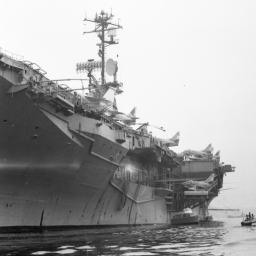Portanaves: (1, 8, 232, 225)
